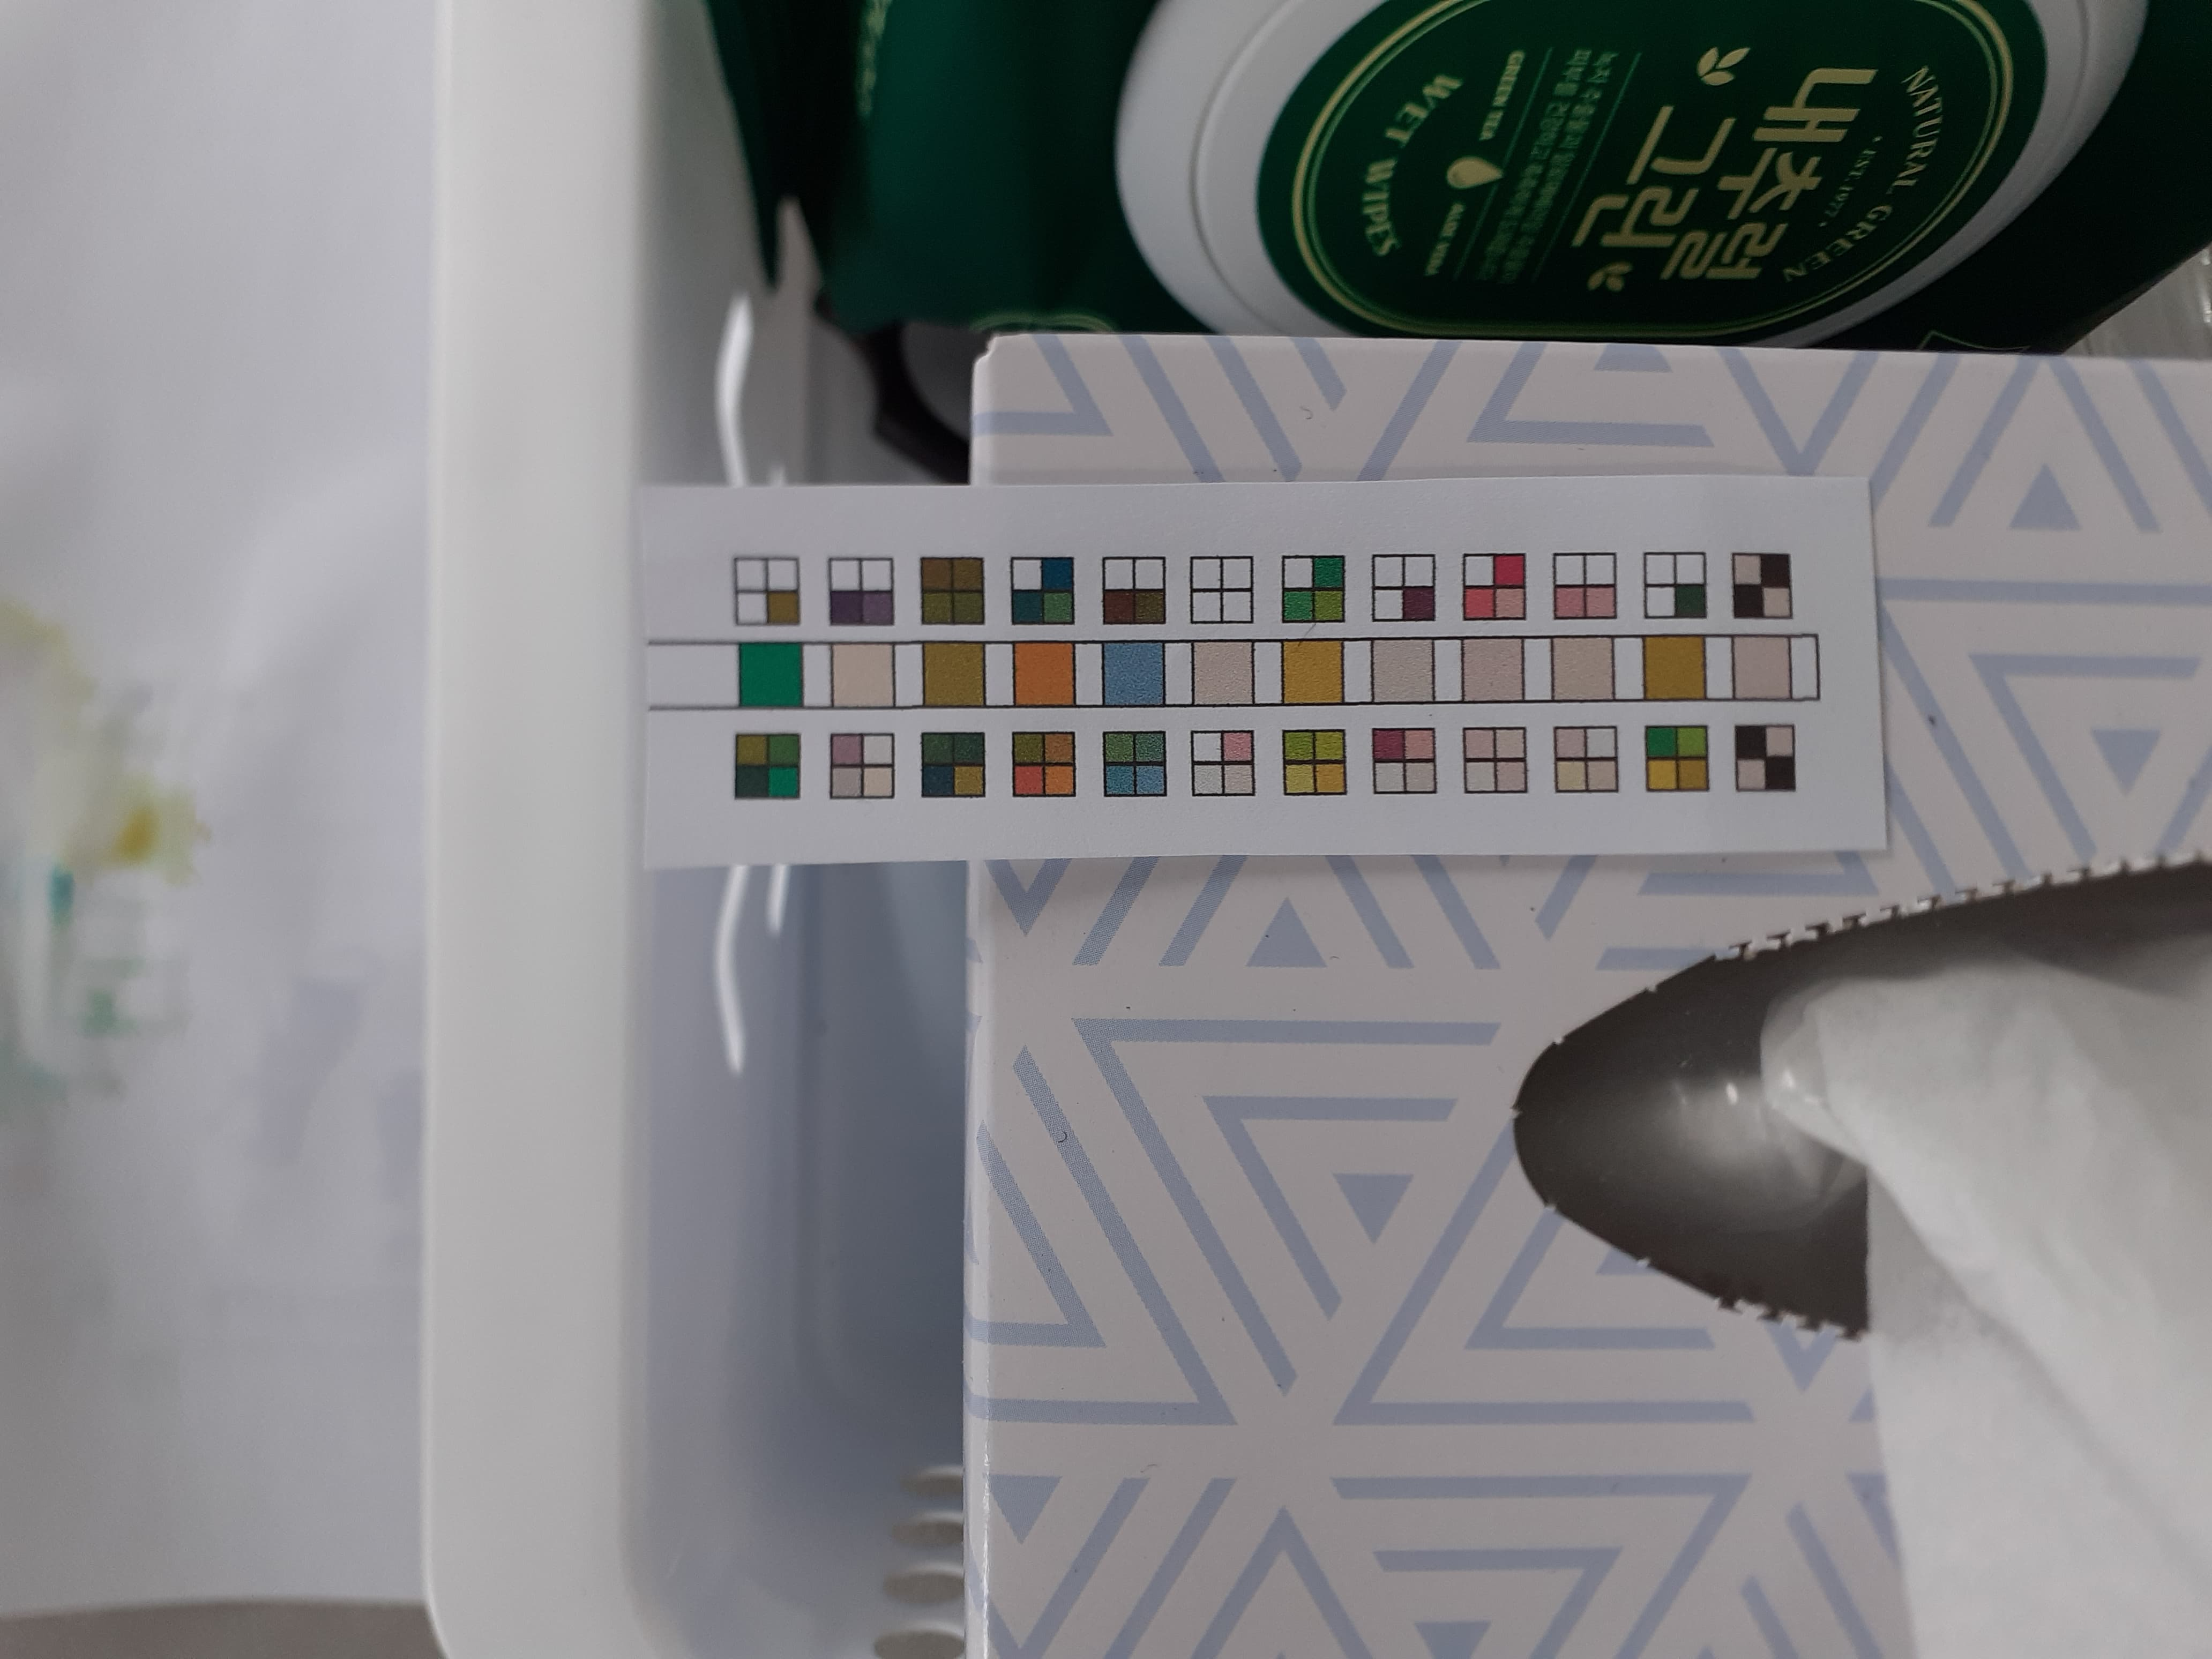tester: (636, 484, 1886, 852)
